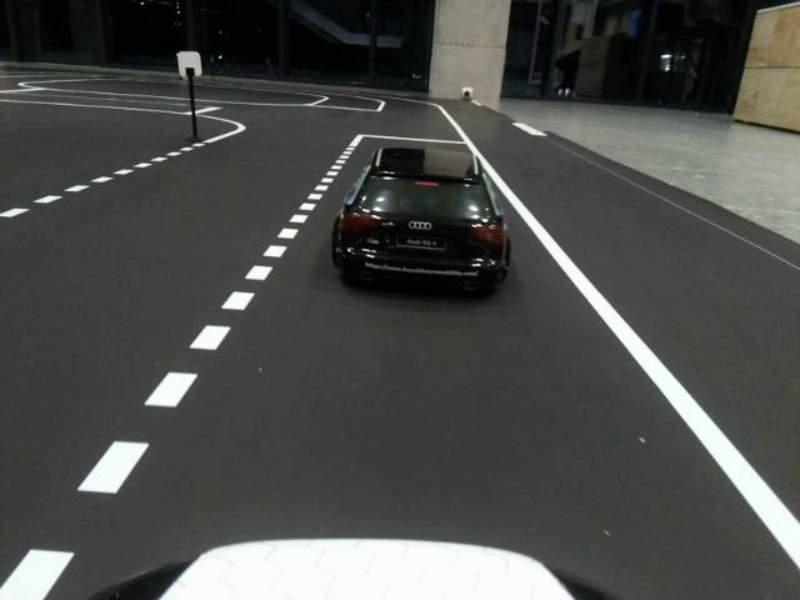car: (311, 128, 527, 307)
